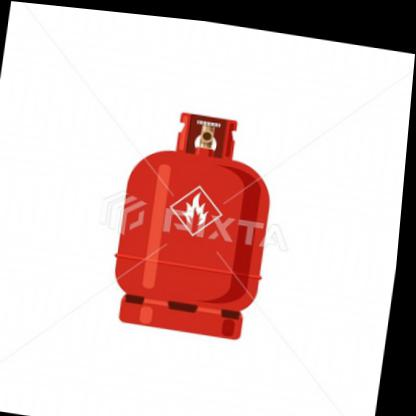gas-tank: (95, 85, 308, 363)
